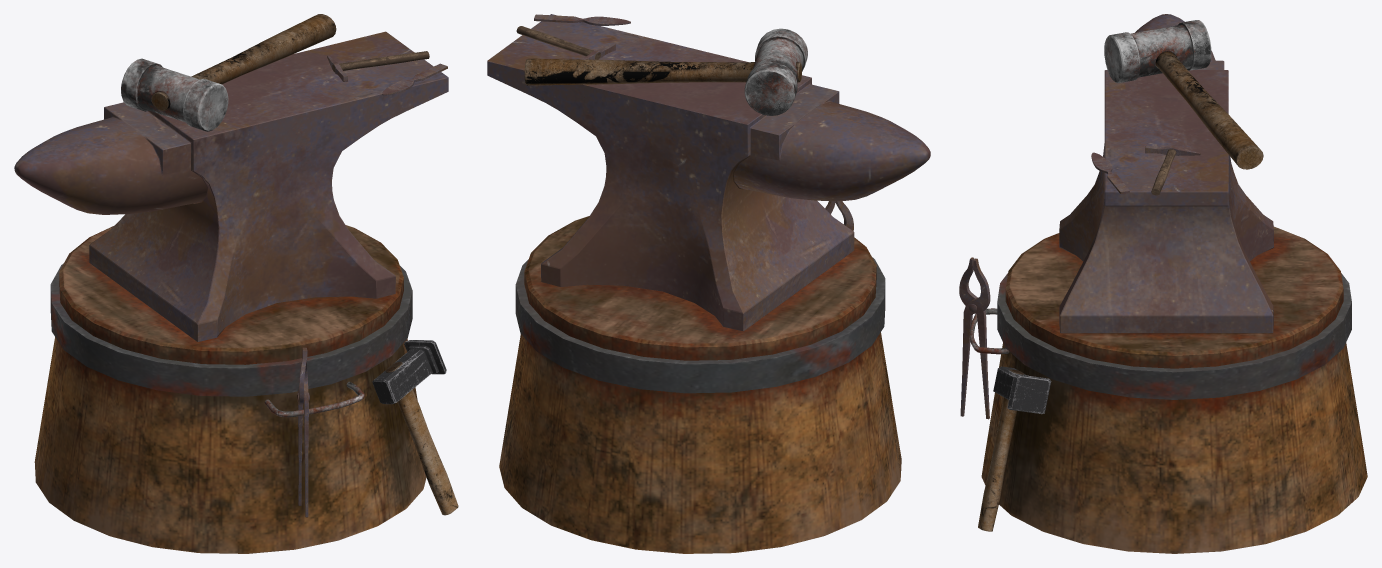
Rendered from Medieval_Asset.fbx.
3 renders of one model, left to right at view 1: azimuth 30°, elevation 25°; view 2: azimuth 150°, elevation 25°; view 3: azimuth 270°, elevation 25°, orthographic. The views are drawn at different scales.
Visible parts, largest first — view 1: Wood, Iron, Wood_Clamp, Tool1, Tool5, Tool3, Tool4, Tool_Holder, Tool2; view 2: Wood, Iron, Wood_Clamp, Tool1, Tool4, Tool2; view 3: Wood, Iron, Wood_Clamp, Tool1, Tool5, Tool3, Tool4, Tool2.
Part boxes in pixels (x1=…): Wood: x1=34, y1=225, x2=426, y2=553; Iron: x1=14, y1=31, x2=448, y2=341; Wood_Clamp: x1=50, y1=263, x2=412, y2=396; Tool1: x1=121, y1=14, x2=336, y2=131; Tool5: x1=372, y1=340, x2=458, y2=515; Tool3: x1=296, y1=347, x2=309, y2=517; Tool4: x1=327, y1=51, x2=429, y2=81; Tool_Holder: x1=264, y1=381, x2=364, y2=417; Tool2: x1=382, y1=63, x2=447, y2=95; Wood: x1=499, y1=216, x2=901, y2=553; Iron: x1=487, y1=14, x2=930, y2=331; Wood_Clamp: x1=515, y1=257, x2=885, y2=393; Tool1: x1=524, y1=28, x2=807, y2=115; Tool4: x1=516, y1=26, x2=615, y2=59; Tool2: x1=534, y1=14, x2=630, y2=25; Wood: x1=981, y1=226, x2=1367, y2=553; Iron: x1=1059, y1=14, x2=1273, y2=333; Wood_Clamp: x1=997, y1=273, x2=1351, y2=399; Tool1: x1=1104, y1=20, x2=1263, y2=169; Tool5: x1=978, y1=366, x2=1051, y2=531; Tool3: x1=959, y1=257, x2=990, y2=419; Tool4: x1=1145, y1=145, x2=1200, y2=195; Tool2: x1=1091, y1=152, x2=1129, y2=194.
Bounding box in the file's own units: 45.16 × 44.7 × 40.04.
